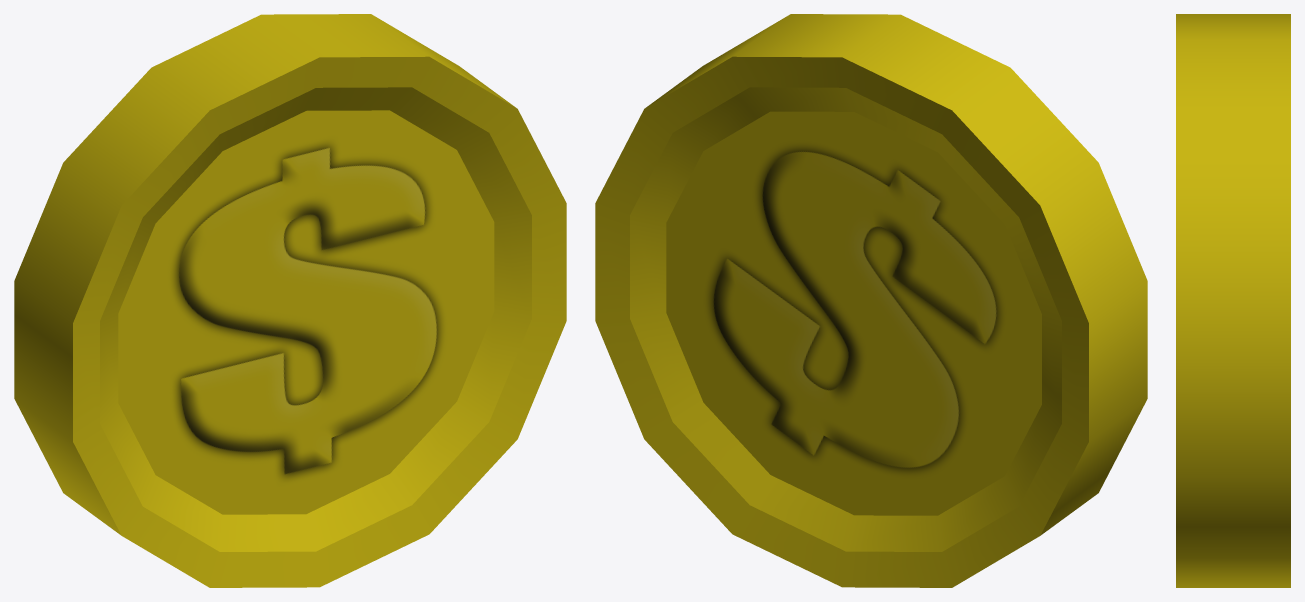
Rendered from Coins.gltf.
3 renders of one model, left to right at view 1: azimuth 30°, elevation 25°; view 2: azimuth 150°, elevation 25°; view 3: azimuth 270°, elevation 25°, orthographic.
Parts seen in each view (by area): view 1: Circle; view 2: Circle; view 3: Circle.
Boxes of the visible parts, x1,y1,x2,y2 form: Circle: (14, 14, 566, 587); Circle: (595, 14, 1147, 587); Circle: (1176, 14, 1290, 587).
Bounding box in the file's own units: 1.95 × 2 × 0.4.
Materials: 1 (1 with a texture image).
